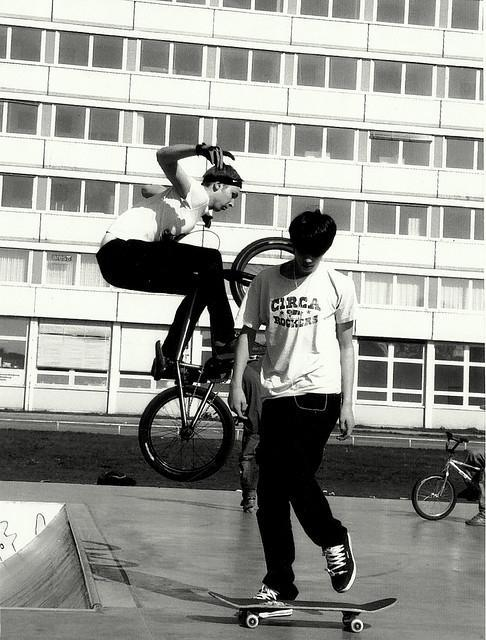bicycle: (136, 232, 294, 481), (412, 432, 482, 520)
